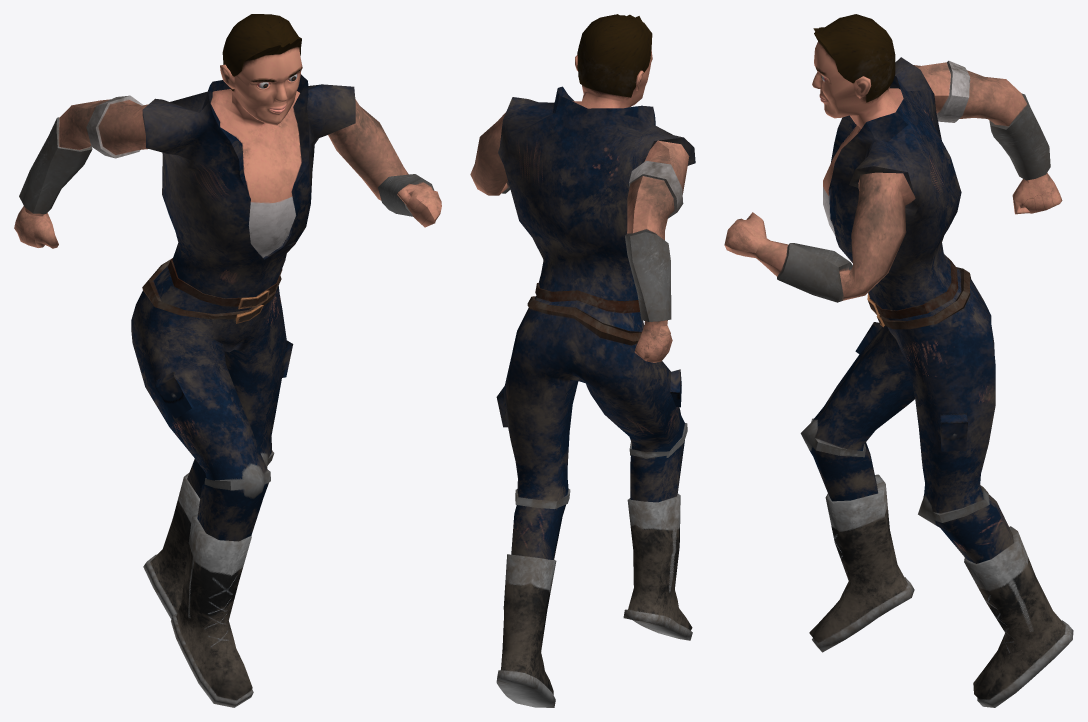
Rendered from Anim_correr_jugador.0040.obj.
3 renders of one model, left to right at view 1: azimuth 30°, elevation 25°; view 2: azimuth 150°, elevation 25°; view 3: azimuth 270°, elevation 25°, orthographic. The views are drawn at different scales.
Visible parts, largest first — view 1: Anim_correr_jugador; view 2: Anim_correr_jugador; view 3: Anim_correr_jugador.
Part boxes in pixels (x1=…): Anim_correr_jugador: x1=14, y1=14, x2=441, y2=707; Anim_correr_jugador: x1=470, y1=14, x2=695, y2=707; Anim_correr_jugador: x1=724, y1=14, x2=1073, y2=707.
Size of the model in its own units: 4.5 by 9.86 by 4.6.
Materials: 2 (2 with a texture image).
